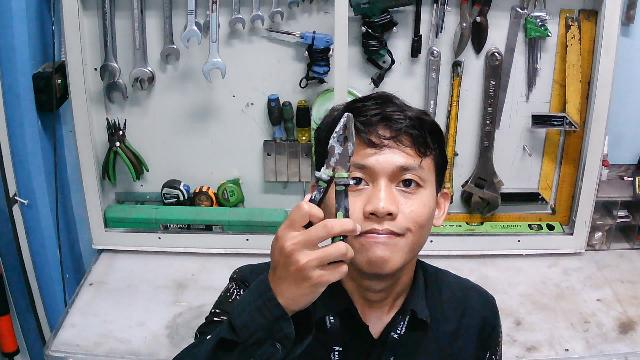tang_kombinasi: (304, 113, 356, 262)
